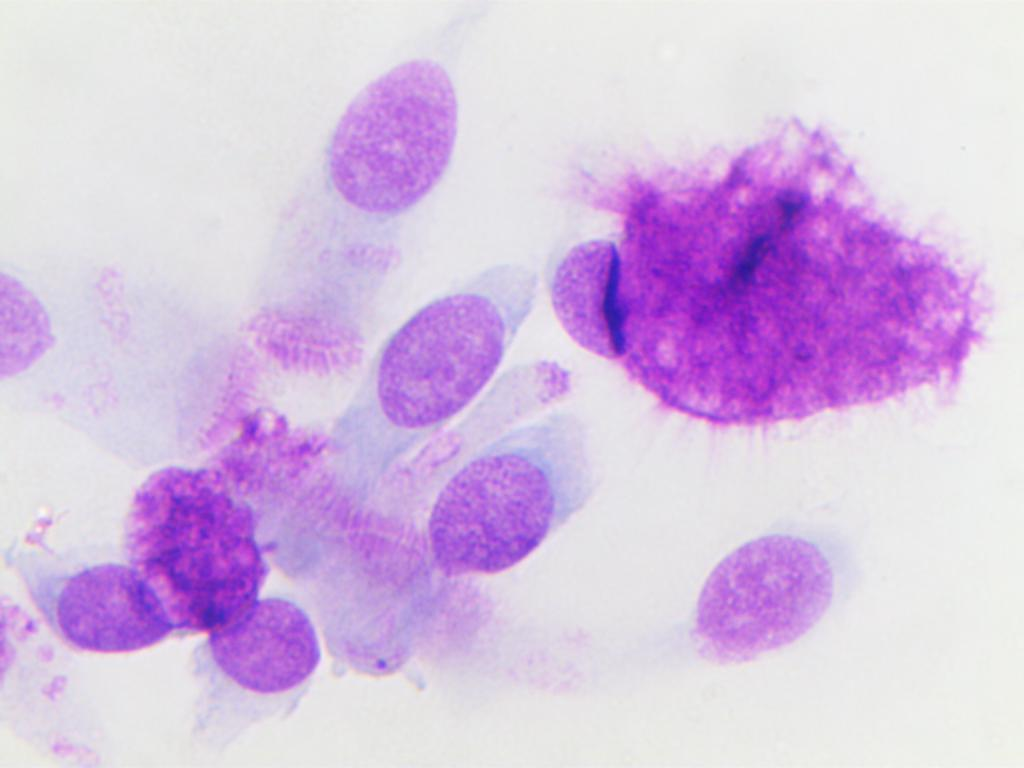ciliated: (247, 55, 458, 370), (306, 284, 519, 547), (1, 269, 257, 453), (350, 448, 562, 658)
epithelial: (679, 530, 850, 664), (208, 600, 314, 694)
goblet_cell: (543, 141, 960, 432), (49, 537, 227, 656)
